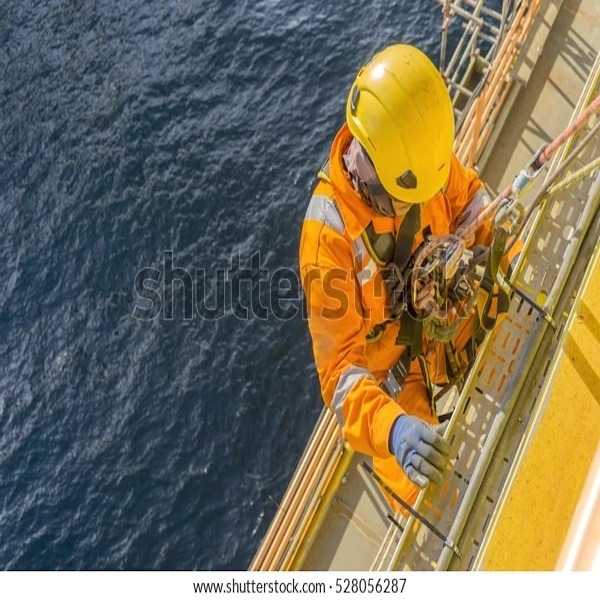helmet: (347, 44, 454, 201)
vest: (302, 179, 490, 473)
